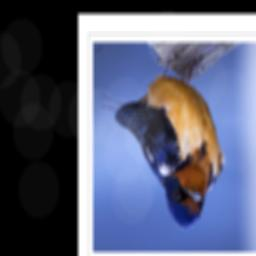Swallow: (98, 45, 226, 232)
